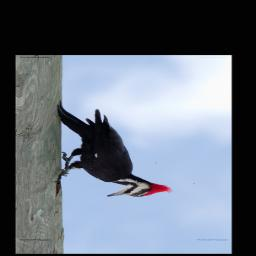Woodpecker: (52, 102, 172, 198)
